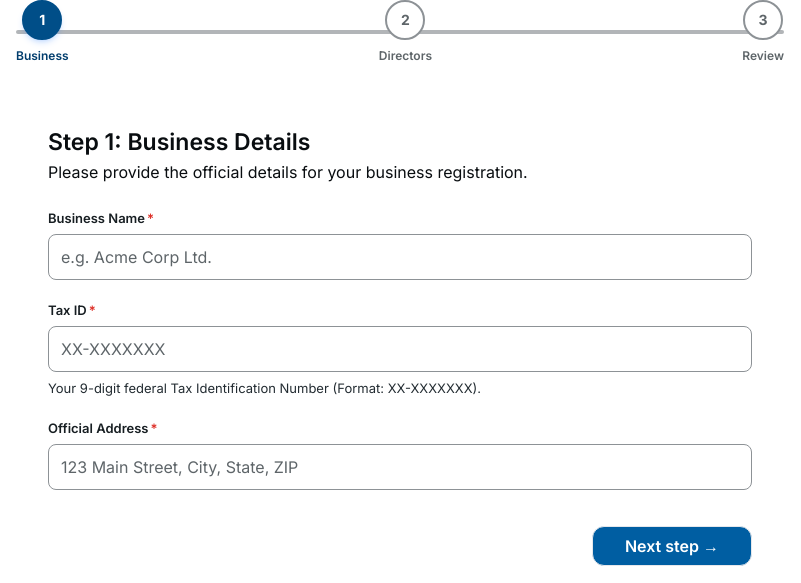
Test: Wizard Component Integration › should render Step 1 and allow navigation to Step 2 after validation
The image size is (801, 583).
Expected: the heading "Step 1: Business Details" is shown, [48, 128, 310, 156]
# Fill out Step 1
Type "Acme Corp" into the field labelled "Business Name*" at x=400, y=257, box [48, 234, 752, 280]
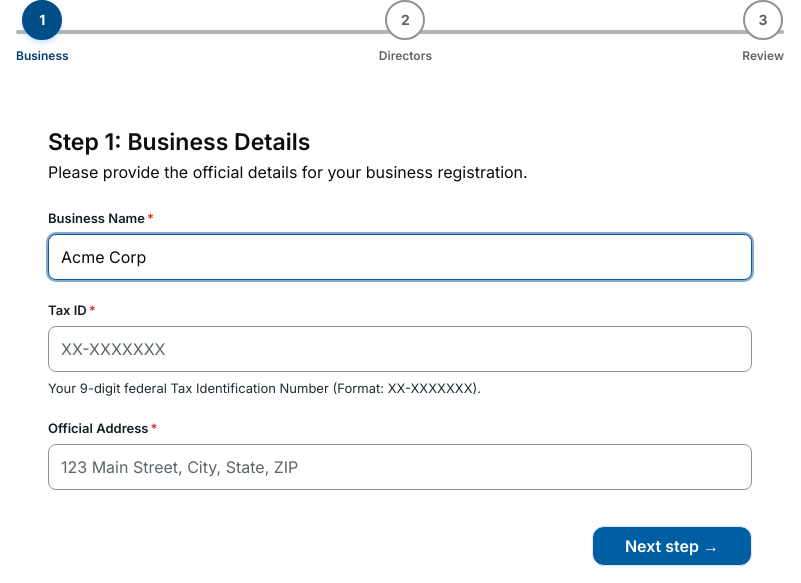
Type "12-3456789" into the field labelled "Tax ID*" at x=400, y=349, box [48, 326, 752, 372]
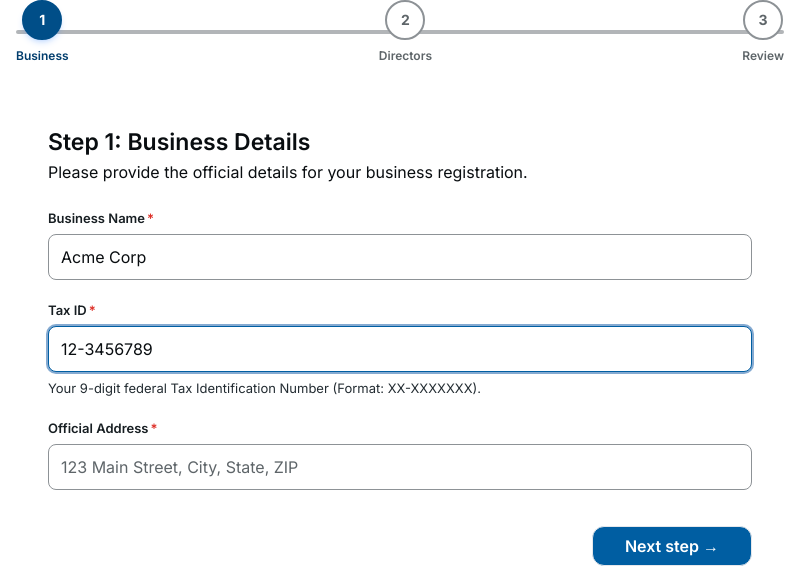
Type "123 Main St, Springfield" into the field labelled "Official Address*" at x=400, y=467, box [48, 444, 752, 490]
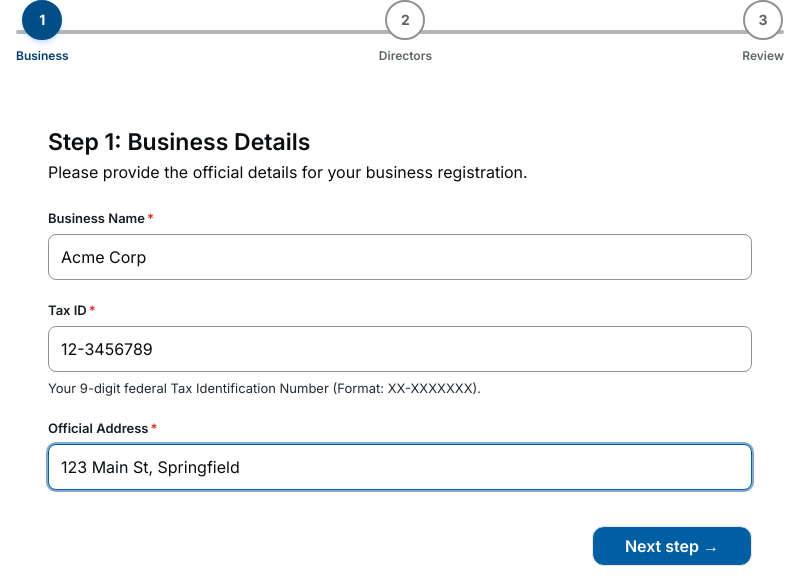
# Click Next
Click the button "Next step →" at x=672, y=546, box [592, 526, 752, 566]
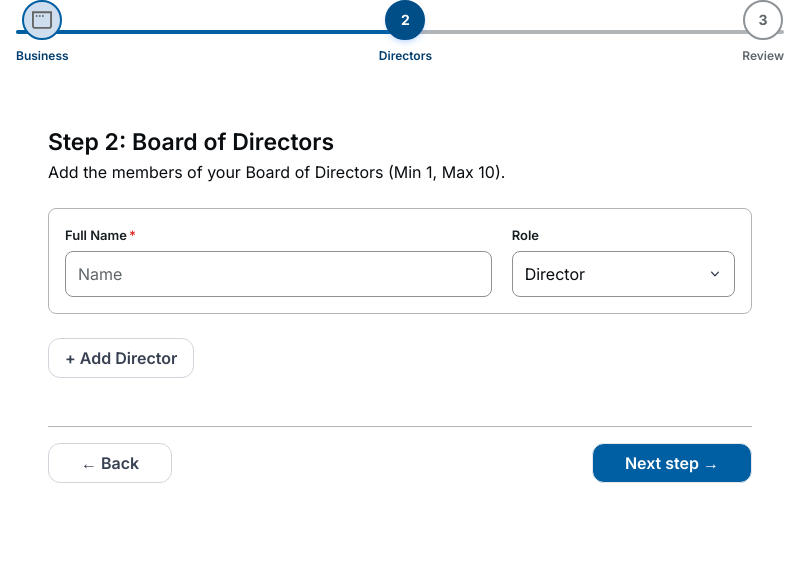
Expected: the heading "Step 2: Board of Directors" is shown, [48, 128, 334, 156]
